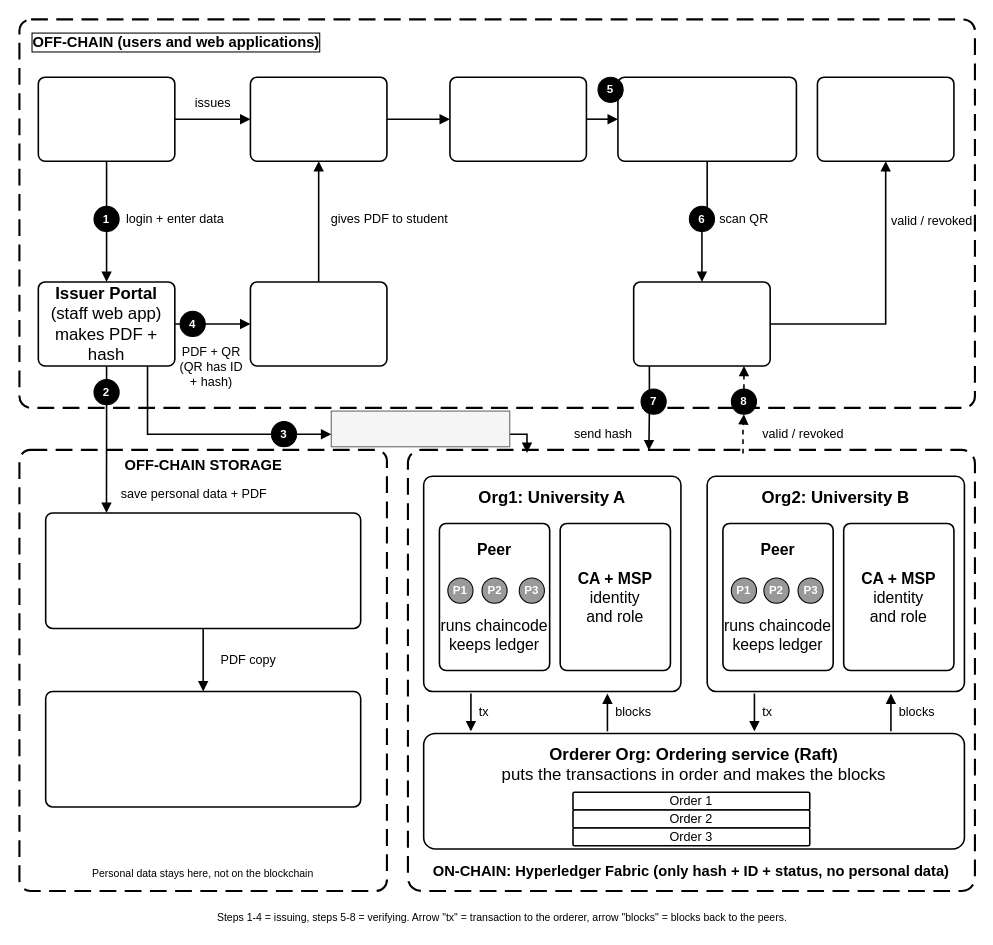
This 993x945 diagram has some shape labels left out. The shapes that lost their labels are listed below. From the top down, each one's centre as x and y in pixels, then its label:
At pixel 106 118: "University staff Registrar + Exam Controller".
At pixel 318 118: "Student gets PDF with QR code (ID + hash inside)".
At pixel 518 118: "Applies for job or higher study shows PDF / QR".
At pixel 707 118: "Verifier ( verify through Bank, Govt, Non-govt or other way)".
At pixel 885 118: "Result Valid or Revoked (with details)".
At pixel 318 323: "Student Wallet PDF + QR code".
At pixel 701 323: "Verification Portal (scan / upload)".
At pixel 420 428: "make SHA-256 hash of PDF, send only the hash".
At pixel 202 570: "Student database name, ID, CGPA (encrypted)".
At pixel 202 748: "File storage certificate PDF files (encrypted)".
